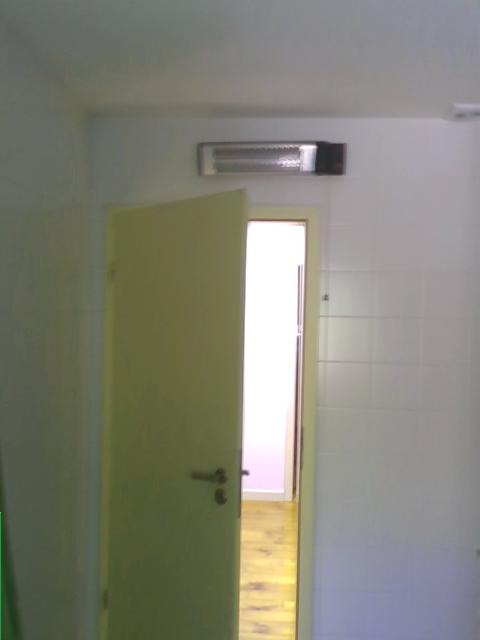semi_door: (101, 187, 317, 639)
